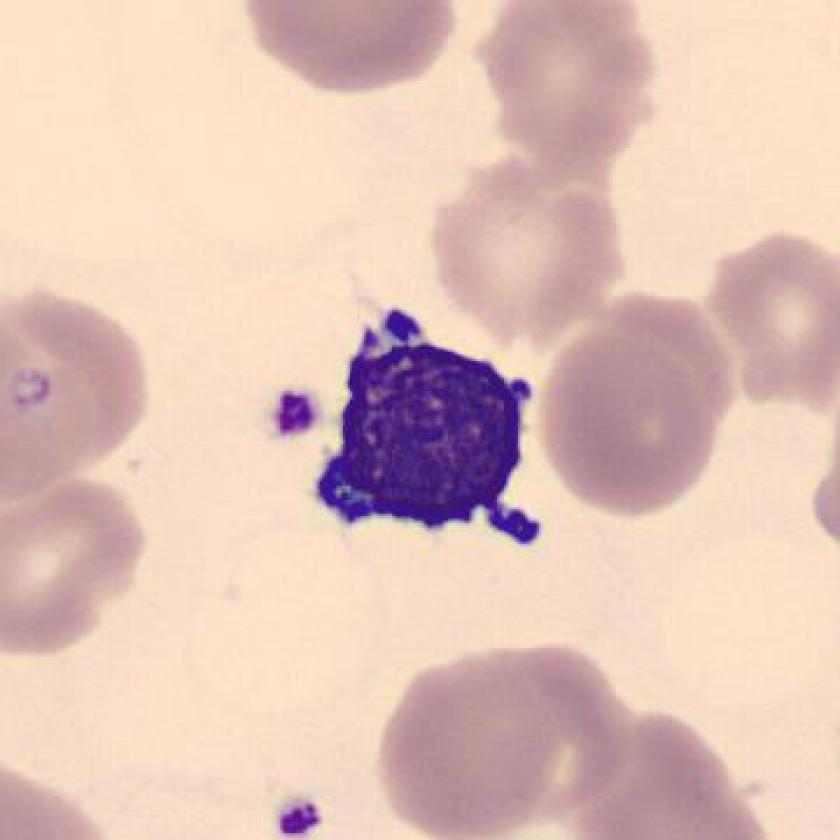lymphocyte: (304, 293, 561, 559)
